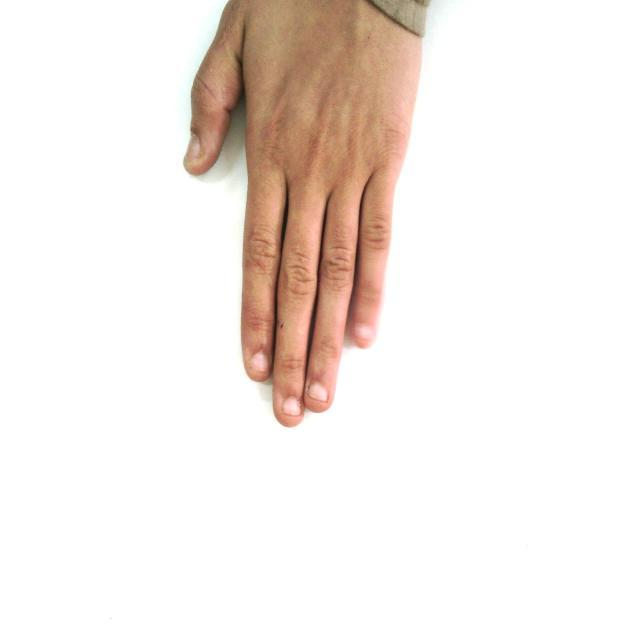Fingernail: (186, 136, 200, 163), (250, 352, 267, 371), (310, 384, 327, 401), (283, 398, 301, 414), (355, 327, 375, 340)
